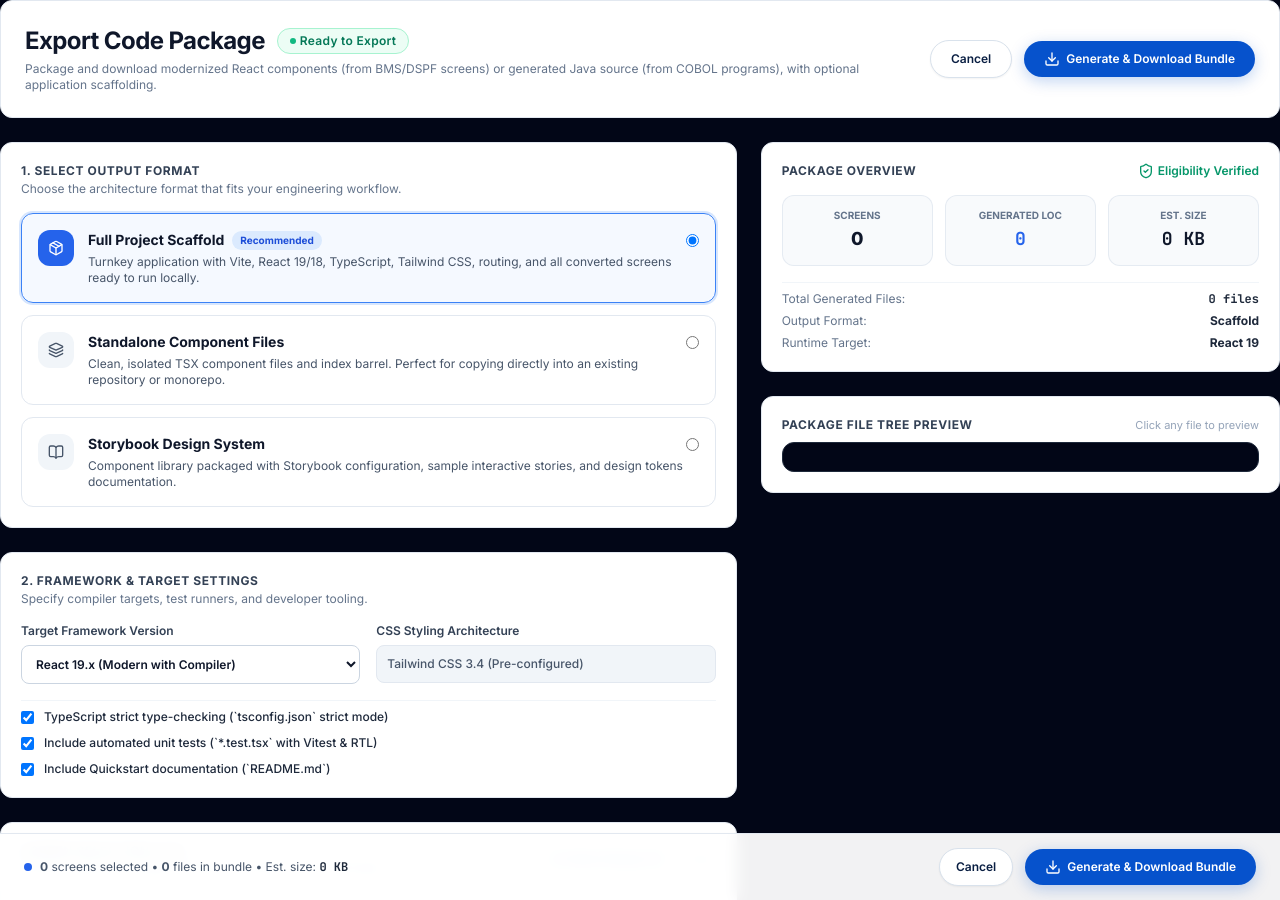
Test case: ExportCodePage › switches between output formats and updates selection
The width and height of the screenshot is (1280, 900).
Check: the heading "Export Code Package" is shown, box x1=25 y1=25 x2=265 y2=57
Click the heading "Standalone Component Files": (186, 342) x1=88 y1=333 x2=284 y2=350
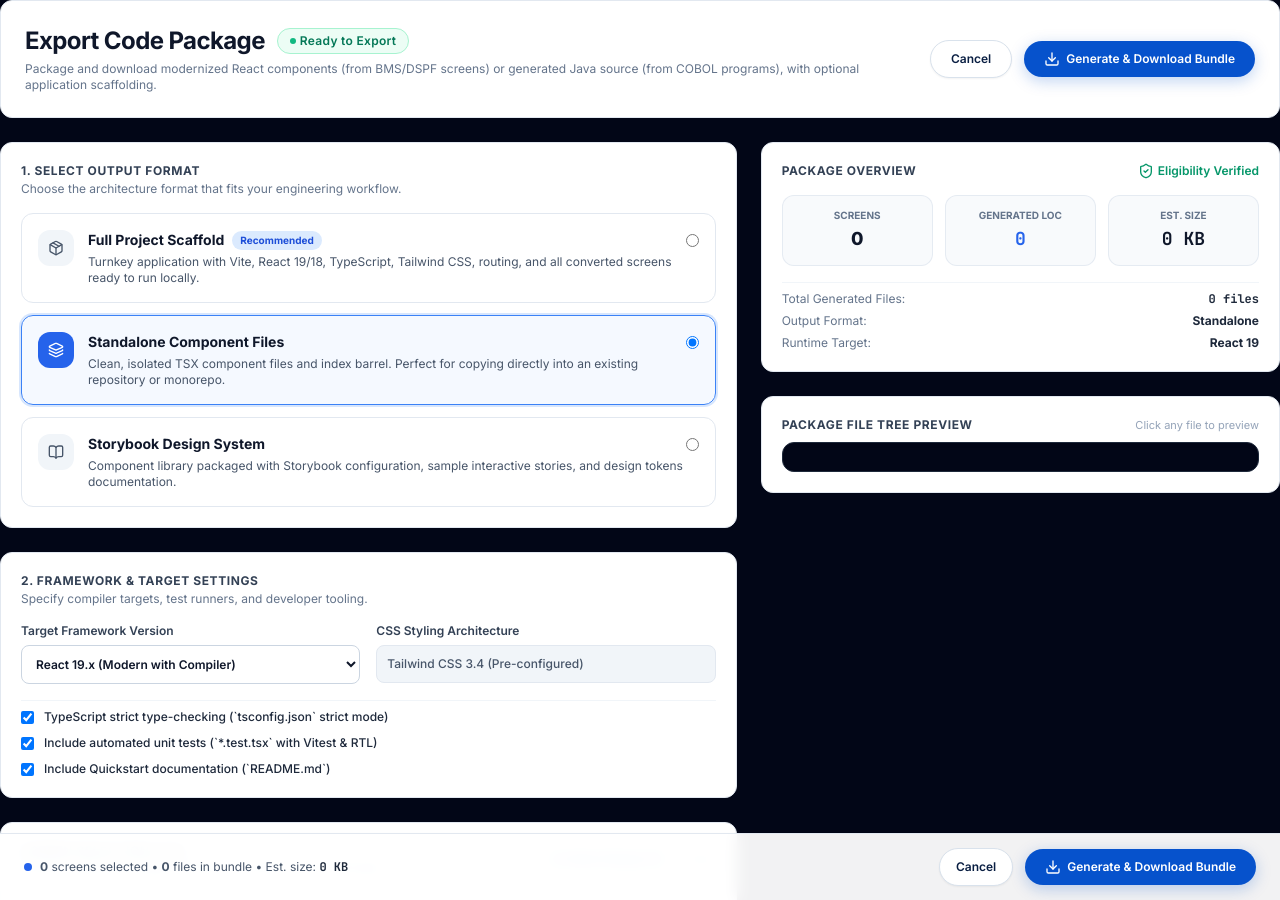
Check: the radio button in the row of "Standalone Component Files" is checked, box x1=686 y1=336 x2=699 y2=349
